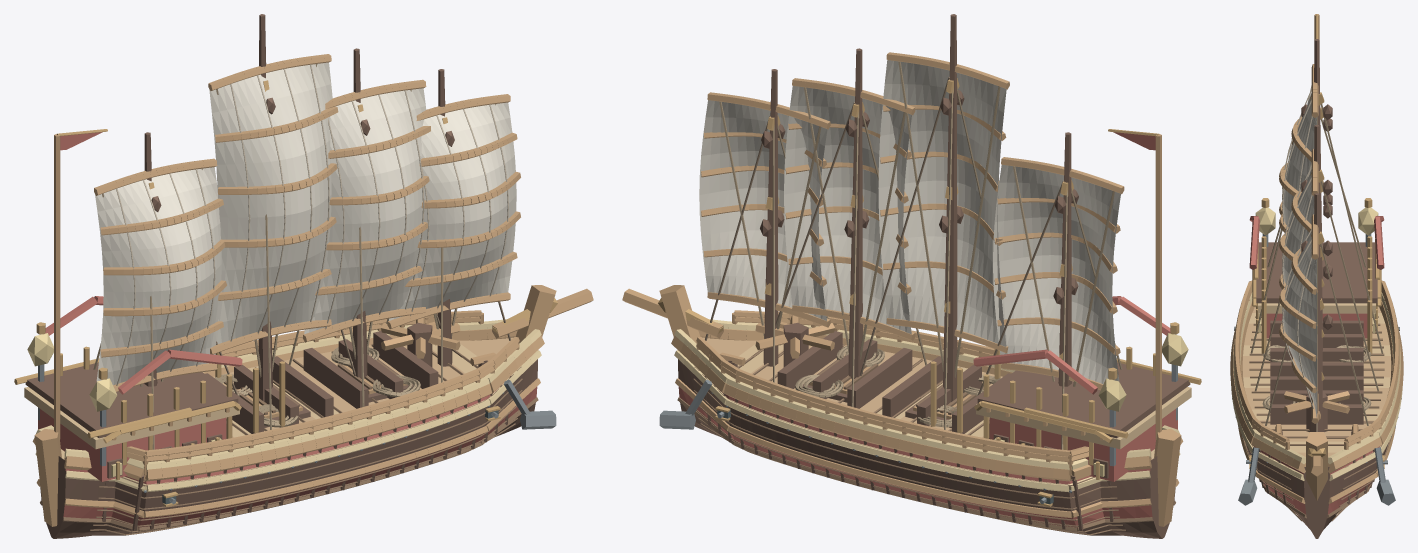
Rendered from treasure_ship-v5-mobile.glb.
3 views of the same model, side by side, from view 1: azimuth 30°, elevation 25°; view 2: azimuth 150°, elevation 25°; view 3: azimuth 270°, elevation 25° (orthographic). The views are drawn at different scales.
Parts seen in each view (by area): view 1: treasure_ship_sails_ivory, treasure_ship_rigging_wood, treasure_ship_hull_wood, treasure_ship_hull_darkwood, treasure_ship_hull_pale, treasure_ship_ornament_darkwood, treasure_ship_railings_wood, treasure_ship_hull_seam, treasure_ship_deck_darkwood, treasure_ship_rigging_sailshade, treasure_ship_hull_red, treasure_ship_masts_darkwood (+14 smaller); view 2: treasure_ship_sails_ivory, treasure_ship_rigging_wood, treasure_ship_hull_wood, treasure_ship_masts_darkwood, treasure_ship_hull_darkwood, treasure_ship_hull_pale, treasure_ship_ornament_darkwood, treasure_ship_railings_wood, treasure_ship_deck_darkwood, treasure_ship_hull_seam, treasure_ship_rigging_rope, treasure_ship_hull_red (+16 smaller); view 3: treasure_ship_ornament_darkwood, treasure_ship_sails_ivory, treasure_ship_hull_wood, treasure_ship_deck_darkwood, treasure_ship_rigging_wood, treasure_ship_hull_deck, treasure_ship_hull_darkwood, treasure_ship_masts_darkwood, treasure_ship_railings_wood, treasure_ship_hull_pale, treasure_ship_masts_rope, treasure_ship_hull_seam (+15 smaller).
Boxes of the visible parts, x1,y1,x2,y2 form: treasure_ship_sails_ivory: (94, 62, 516, 385); treasure_ship_rigging_wood: (94, 54, 520, 392); treasure_ship_hull_wood: (32, 285, 593, 526); treasure_ship_hull_darkwood: (40, 359, 537, 538); treasure_ship_hull_pale: (35, 319, 541, 492); treasure_ship_ornament_darkwood: (205, 331, 438, 438); treasure_ship_railings_wood: (127, 310, 519, 475); treasure_ship_hull_seam: (40, 344, 538, 535); treasure_ship_deck_darkwood: (25, 362, 238, 478); treasure_ship_rigging_sailshade: (116, 64, 508, 385); treasure_ship_hull_red: (63, 383, 537, 527); treasure_ship_masts_darkwood: (144, 14, 454, 401); treasure_ship_sails_ivory: (699, 60, 1120, 384); treasure_ship_rigging_wood: (701, 52, 1124, 390); treasure_ship_hull_wood: (622, 285, 1183, 526); treasure_ship_masts_darkwood: (760, 14, 1078, 401); treasure_ship_hull_darkwood: (678, 359, 1175, 538); treasure_ship_hull_pale: (674, 319, 1180, 492); treasure_ship_ornament_darkwood: (777, 331, 1010, 438); treasure_ship_railings_wood: (696, 310, 1088, 475); treasure_ship_deck_darkwood: (977, 362, 1190, 478); treasure_ship_hull_seam: (677, 344, 1175, 535); treasure_ship_rigging_rope: (719, 61, 1114, 386); treasure_ship_hull_red: (678, 383, 1152, 527); treasure_ship_ornament_darkwood: (1270, 320, 1363, 424); treasure_ship_sails_ivory: (1283, 93, 1316, 417); treasure_ship_hull_wood: (1230, 301, 1403, 503); treasure_ship_deck_darkwood: (1256, 242, 1377, 303); treasure_ship_rigging_wood: (1279, 64, 1318, 423); treasure_ship_hull_deck: (1242, 306, 1391, 456); treasure_ship_hull_darkwood: (1245, 442, 1388, 538); treasure_ship_masts_darkwood: (1301, 39, 1332, 431); treasure_ship_railings_wood: (1234, 280, 1399, 449); treasure_ship_hull_pale: (1231, 292, 1402, 480); treasure_ship_masts_rope: (1250, 104, 1383, 425); treasure_ship_hull_seam: (1241, 316, 1392, 521).
Bounding box in the file's own units: 57.73 × 48.03 × 18.93.
